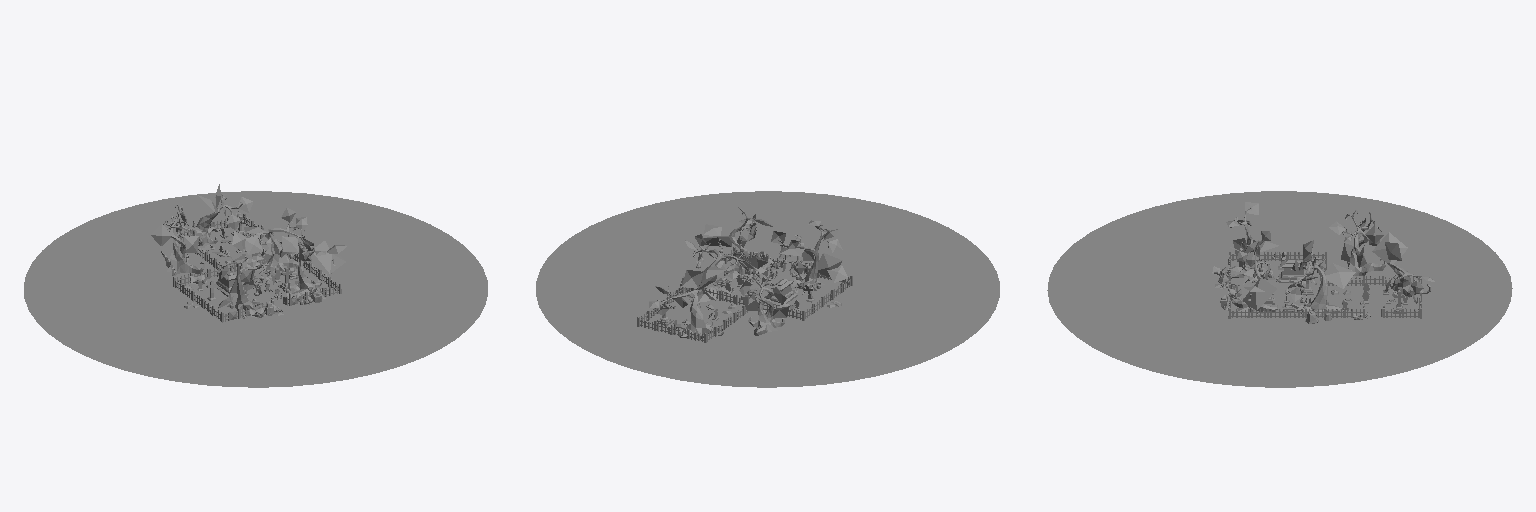
Rendered from sample_scene.obj.
The picture shows the model from 3 angles: view 1: azimuth 30°, elevation 25°; view 2: azimuth 150°, elevation 25°; view 3: azimuth 270°, elevation 25°; orthographic projection.
Visible parts, largest first — view 1: Cylinder001, lava_dead_tree_04_leaf, dead_tree_06, lava_dead_tree_02_leaf, dead_tree_03, dead_tree_06_leaf, dead_tree_03_leaf, lava_dead_tree_02, lava_dead_tree_05; view 2: Cylinder001, lava_dead_tree_02_leaf, dead_tree_06, lava_dead_tree_04_leaf, lava_dead_tree_05, dead_tree_03_leaf, lava_dead_tree_05_leaf, dead_tree_06_leaf, lava_dead_tree_02, dead_tree_03; view 3: Cylinder001, lava_dead_tree_04_leaf, dead_tree_03_leaf, dead_tree_06, lava_dead_tree_05_leaf, dead_tree_03, lava_dead_tree_02_leaf, dead_tree_06_leaf, lava_dead_tree_05.
Part boxes in pixels (x1,y1,x2,y2): Cylinder001: (24,191,487,387); lava_dead_tree_04_leaf: (282,219,346,296); dead_tree_06: (161,204,205,275); lava_dead_tree_02_leaf: (212,247,274,308); dead_tree_03: (242,221,305,272); dead_tree_06_leaf: (151,212,202,272); dead_tree_03_leaf: (232,208,313,271); lava_dead_tree_02: (224,250,272,311); lava_dead_tree_05: (183,195,242,245); Cylinder001: (536,191,999,387); lava_dead_tree_02_leaf: (771,220,847,282); dead_tree_06: (746,267,784,335); lava_dead_tree_04_leaf: (704,207,772,278); lava_dead_tree_05: (657,286,723,338); dead_tree_03_leaf: (685,234,767,302); lava_dead_tree_05_leaf: (649,270,716,315); dead_tree_06_leaf: (739,267,789,318); lava_dead_tree_02: (778,225,829,294); dead_tree_03: (687,243,748,300); Cylinder001: (1047,191,1512,387); lava_dead_tree_04_leaf: (1230,240,1276,314); dead_tree_03_leaf: (1288,240,1355,311); dead_tree_06: (1342,210,1386,275); lava_dead_tree_05_leaf: (1372,232,1434,293); dead_tree_03: (1289,247,1339,317); lava_dead_tree_02_leaf: (1226,202,1278,277); dead_tree_06_leaf: (1329,218,1383,267); lava_dead_tree_05: (1387,262,1430,303).
Size of the model in its own units: 5377 by 872 by 5384.